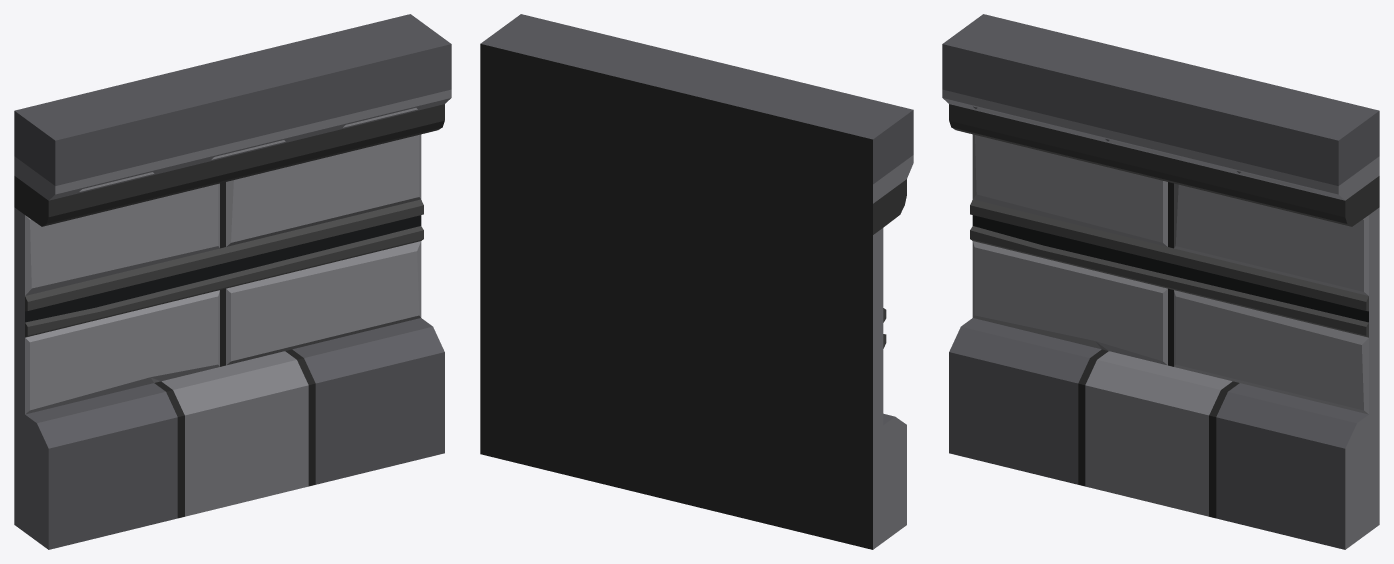
The model's file is SM_Bld_Wall_03.glb.
3 views of the same model, side by side, from view 1: azimuth 30°, elevation 25°; view 2: azimuth 150°, elevation 25°; view 3: azimuth 330°, elevation 25° (orthographic).
Parts seen in each view (by area): view 1: SM_Bld_Wall_03; view 2: SM_Bld_Wall_03; view 3: SM_Bld_Wall_03.
Part boxes in pixels (x1,y1,x2,y2): SM_Bld_Wall_03: (14,14,451,549); SM_Bld_Wall_03: (480,14,913,549); SM_Bld_Wall_03: (942,14,1379,549).
Size of the model in its own units: 5 by 5 by 0.8972.
1 material, 1 textured.
